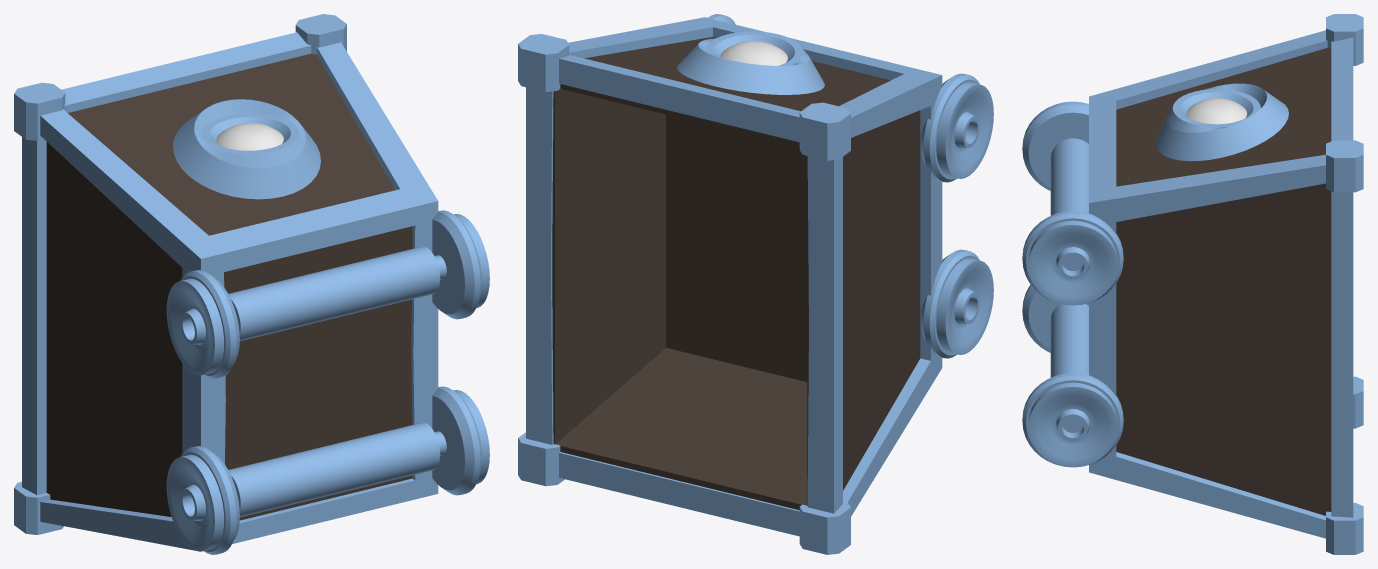
Rendered from minecart.fbx.
3 renders of one model, left to right at view 1: azimuth 30°, elevation 25°; view 2: azimuth 150°, elevation 25°; view 3: azimuth 270°, elevation 25°, orthographic. The views are drawn at different scales.
Parts seen in each view (by area): view 1: Minecart, Minecartwheels.001, Minecartwheels, MinecartLight; view 2: Minecart, MinecartLight, Minecartwheels, Minecartwheels.001; view 3: Minecart, Minecartwheels, Minecartwheels.001, MinecartLight.
Boxes of the visible parts, x1,y1,x2,y2 form: Minecart: [14, 14, 438, 551]; Minecartwheels.001: [166, 386, 489, 554]; Minecartwheels: [166, 210, 489, 378]; MinecartLight: [173, 99, 320, 199]; Minecart: [518, 17, 942, 554]; MinecartLight: [677, 31, 824, 94]; Minecartwheels: [708, 14, 993, 182]; Minecartwheels.001: [920, 249, 993, 358]; Minecart: [1089, 14, 1363, 554]; Minecartwheels: [1022, 101, 1123, 305]; Minecartwheels.001: [1022, 284, 1123, 467]; MinecartLight: [1156, 83, 1288, 161].
Size of the model in its own units: 1.13 by 1.45 by 1.13.
